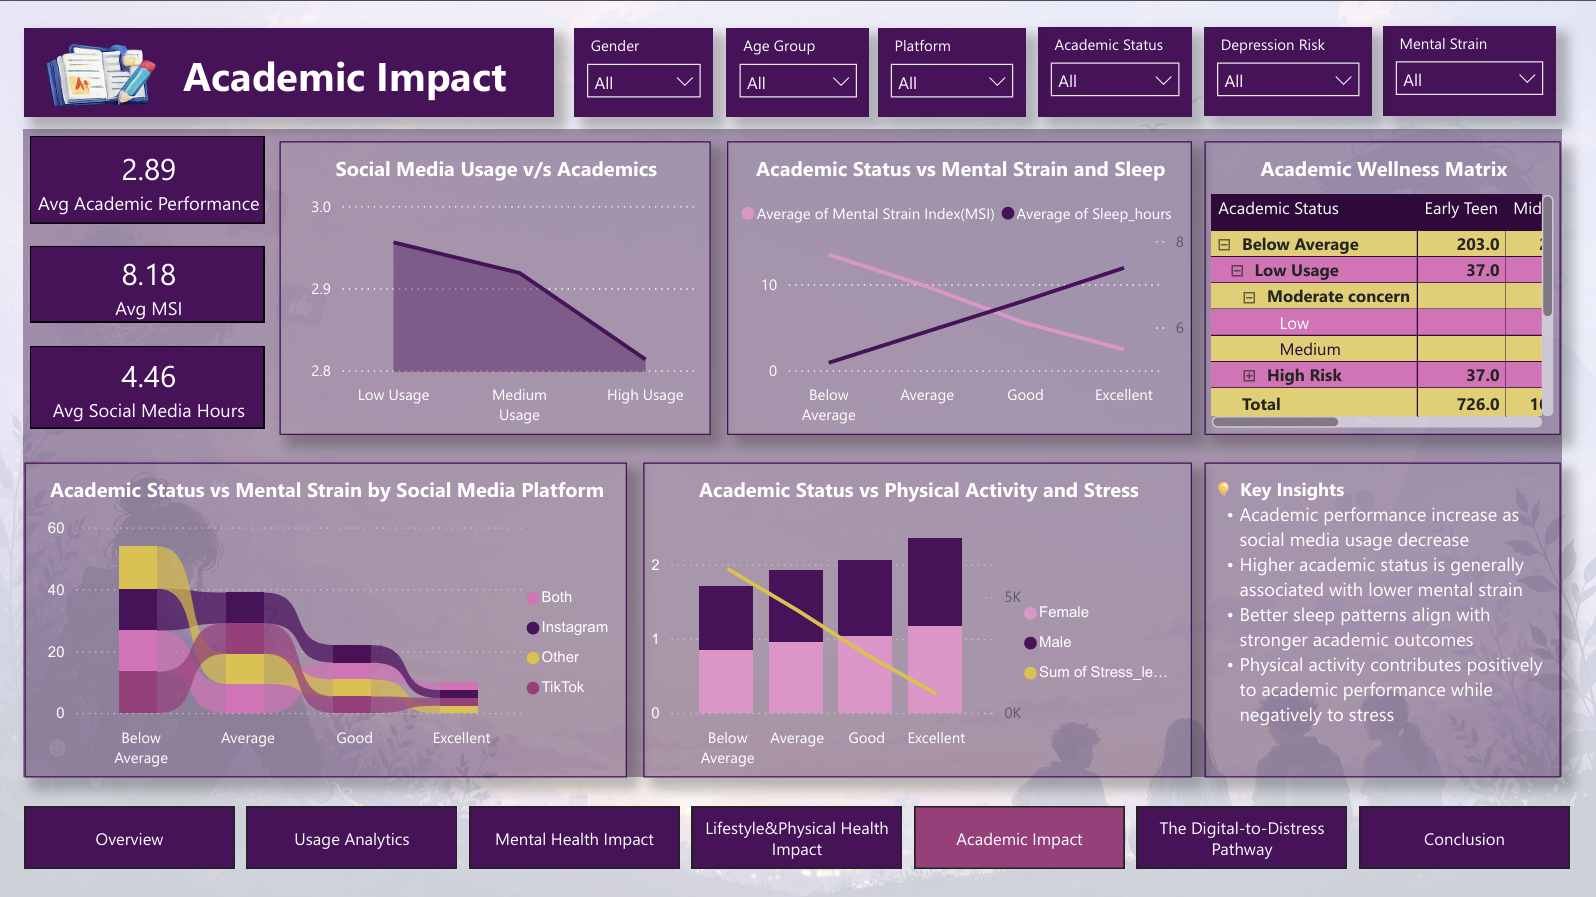

The dashboard page shown, as its layout file describes it:
{"tool":"powerbi","page":{"name":"Academic Impact","canvas":[1280,720],"ordinal":4},"visuals":[{"type":"stackedAreaChart","title":"Social Media Usage v/s Academics ","fields":{"Y":["Avg(Teen_Mental_Health_Dataset.Academic_performance)"],"Category":["Teen_Mental_Health_Dataset.Social Media Usage Status"]},"box":[226.3,112.7,344.9,235.2],"z":0},{"type":"lineChart","title":"Academic Status vs Mental Strain and Sleep","fields":{"Y":["Avg(Teen_Mental_Health_Dataset.Mental Strain Index(MSI))"],"Category":["Teen_Mental_Health_Dataset.Academic Status"],"Y2":["Avg(Teen_Mental_Health_Dataset.Sleep_hours)"]},"box":[584,112.7,372.3,235.2],"z":1000},{"type":"lineStackedColumnComboChart","title":"Academic Status vs Physical Activity and Stress","fields":{"Category":["Teen_Mental_Health_Dataset.Academic Status"],"Y":["Avg(Teen_Mental_Health_Dataset.Physical_activity)"],"Series":["Teen_Mental_Health_Dataset.Gender"],"Y2":["Sum(Teen_Mental_Health_Dataset.Stress_level)"]},"box":[517,370,439,252],"z":2000},{"type":"textbox","box":[22,23,424.1,71],"z":3000},{"type":"slicer","fields":{"Values":["Teen_Mental_Health_Dataset.Gender"]},"box":[462.5,22.5,110.7,71.5],"z":4000},{"type":"cardVisual","fields":{"Data":["DAX measures.Avg Academic Performance"]},"box":[21.6,103.9,197,80.3],"z":5000},{"type":"slicer","fields":{"Values":["Teen_Mental_Health_Dataset.Age Group"]},"box":[584,22.5,113.7,71.5],"z":6000},{"type":"slicer","fields":{"Values":["Teen_Mental_Health_Dataset.Academic Status"]},"box":[832.9,21.6,123.5,72.5],"z":7000},{"type":"ribbonChart","title":"Academic Status vs Mental Strain by Social Media Platform","fields":{"Category":["Teen_Mental_Health_Dataset.Academic Status"],"Series":["Teen_Mental_Health_Dataset.Platform_usage"],"Y":["Avg(Teen_Mental_Health_Dataset.Mental Strain Index(MSI))"]},"box":[22,370,482,252],"z":8000},{"type":"pivotTable","title":"Academic Wellness Matrix","fields":{"Rows":["Teen_Mental_Health_Dataset.Academic Status","Teen_Mental_Health_Dataset.Social Media Usage Status","Teen_Mental_Health_Dataset.Mental Strain Status","Teen_Mental_Health_Dataset.Depression_risk"],"Columns":["Teen_Mental_Health_Dataset.Age Group"],"Values":["DAX measures.Total Teens"]},"box":[966.1,112.7,285.1,235.2],"z":9000},{"type":"cardVisual","fields":{"Data":["DAX measures.Avg MSI"]},"box":[21.6,192.1,197,70.6],"z":10000},{"type":"cardVisual","fields":{"Data":["DAX measures.Avg Social Media Hours"]},"box":[21.6,272.4,197,75.4],"z":11000},{"type":"pageNavigator","box":[21.6,644.7,1237.6,50],"z":12000},{"type":"slicer","fields":{"Values":["Teen_Mental_Health_Dataset.Platform_usage"]},"box":[704.5,22.5,118.6,71.5],"z":13000},{"type":"slicer","fields":{"Values":["Teen_Mental_Health_Dataset.Mental Strain Status"]},"box":[1109.2,20.6,138.2,72.5],"z":14000},{"type":"slicer","fields":{"Values":["Teen_Mental_Health_Dataset.Depression_risk"]},"box":[966.1,21.6,134.2,71.5],"z":15000},{"type":"textbox","box":[966,370,285,252],"z":16000},{"type":"image","box":[31,21,104,82],"z":17000}]}

Visuals, with their boxes in screenshot pixels (x1, y1, x2, y2), scaled from the page's 1280x720 canvas onto the 1596x897 screenshot:
"Social Media Usage v/s Academics " stackedAreaChart: (282, 140, 712, 433)
"Academic Status vs Mental Strain and Sleep" lineChart: (728, 140, 1192, 433)
"Academic Status vs Physical Activity and Stress" lineStackedColumnComboChart: (645, 461, 1192, 775)
textbox: (27, 29, 556, 117)
slicer - Teen_Mental_Health_Dataset.Gender: (577, 28, 715, 117)
cardVisual - DAX measures.Avg Academic Performance: (27, 129, 273, 229)
slicer - Teen_Mental_Health_Dataset.Age Group: (728, 28, 870, 117)
slicer - Teen_Mental_Health_Dataset.Academic Status: (1039, 27, 1193, 117)
"Academic Status vs Mental Strain by Social Media Platform" ribbonChart: (27, 461, 628, 775)
"Academic Wellness Matrix" pivotTable: (1205, 140, 1560, 433)
cardVisual - DAX measures.Avg MSI: (27, 239, 273, 327)
cardVisual - DAX measures.Avg Social Media Hours: (27, 339, 273, 433)
pageNavigator: (27, 803, 1570, 865)
slicer - Teen_Mental_Health_Dataset.Platform_usage: (878, 28, 1026, 117)
slicer - Teen_Mental_Health_Dataset.Mental Strain Status: (1383, 26, 1555, 116)
slicer - Teen_Mental_Health_Dataset.Depression_risk: (1205, 27, 1372, 116)
textbox: (1204, 461, 1560, 775)
image: (39, 26, 168, 128)
